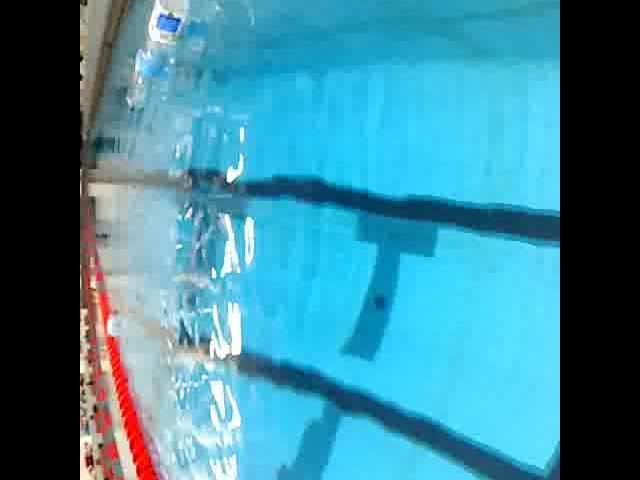Bottle: (118, 29, 166, 115), (144, 0, 208, 53), (104, 306, 120, 340)
